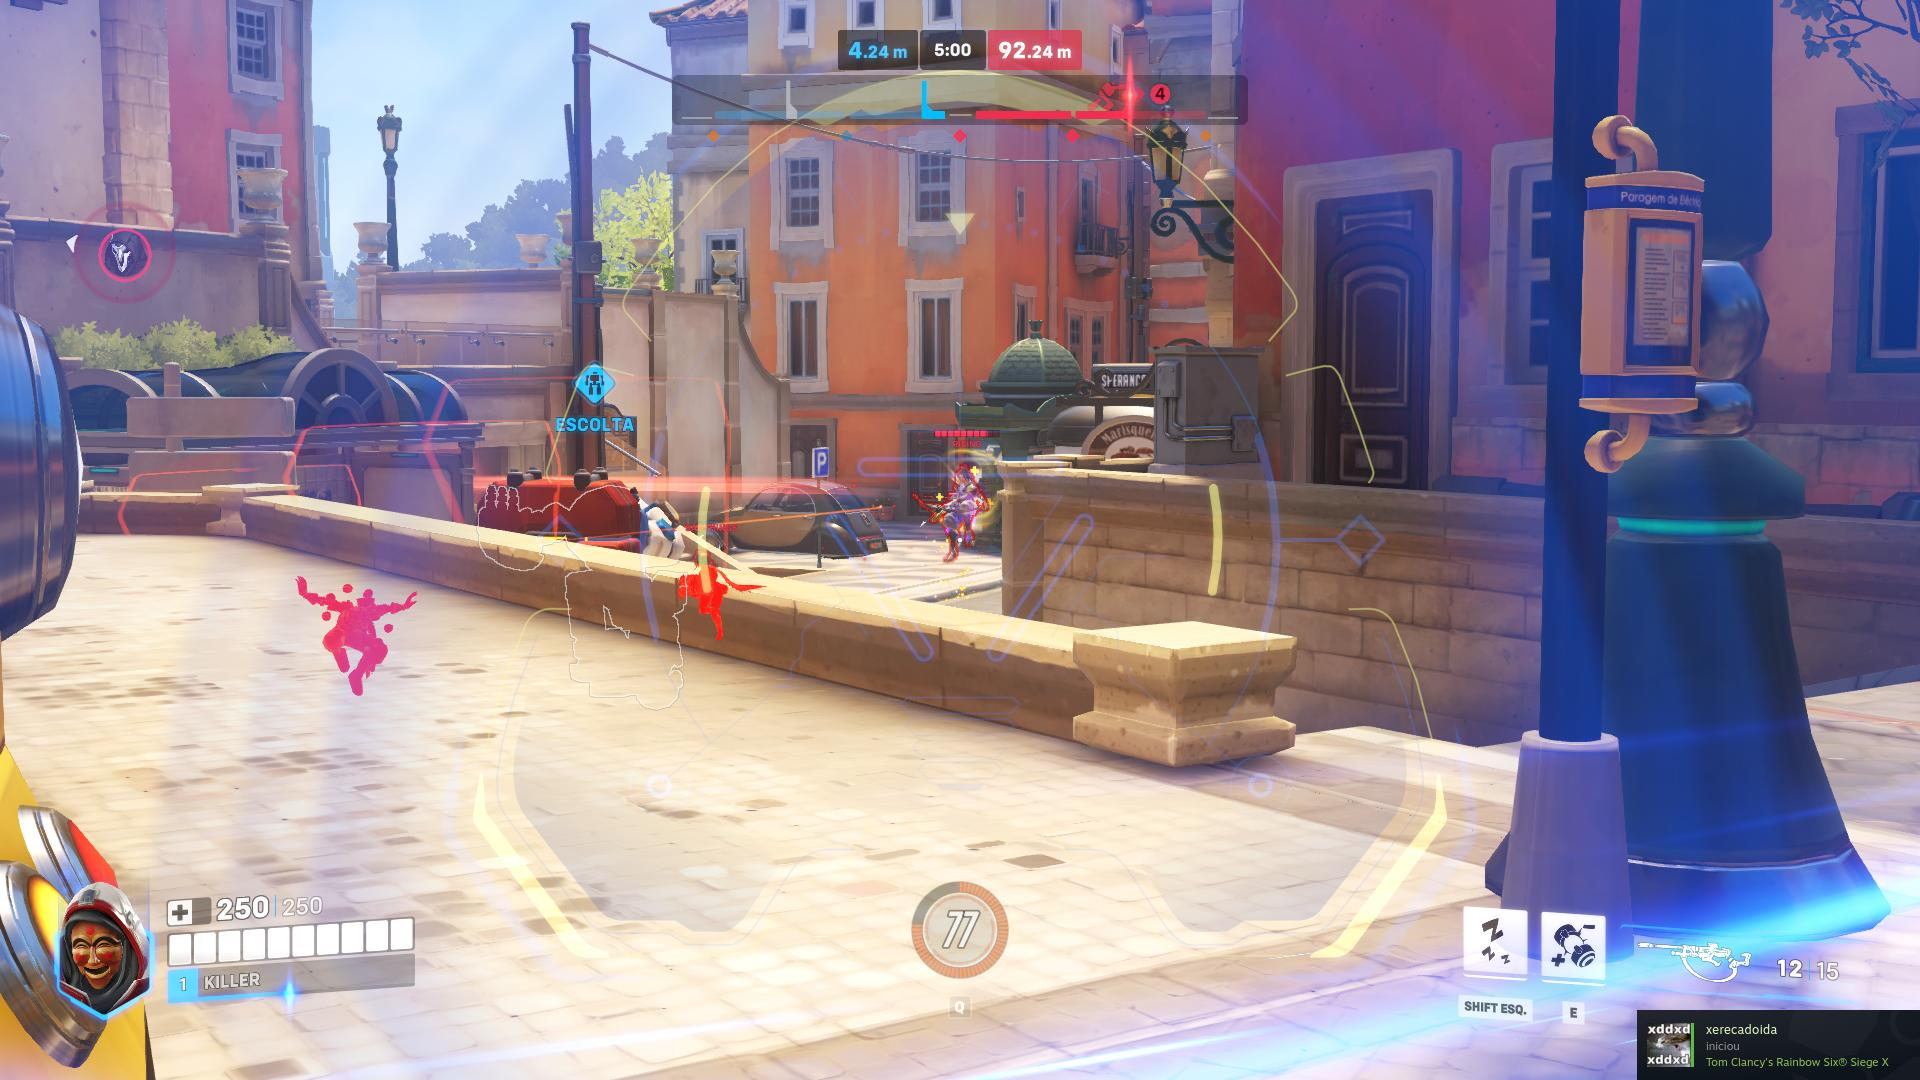enemy: (943, 464, 981, 556)
